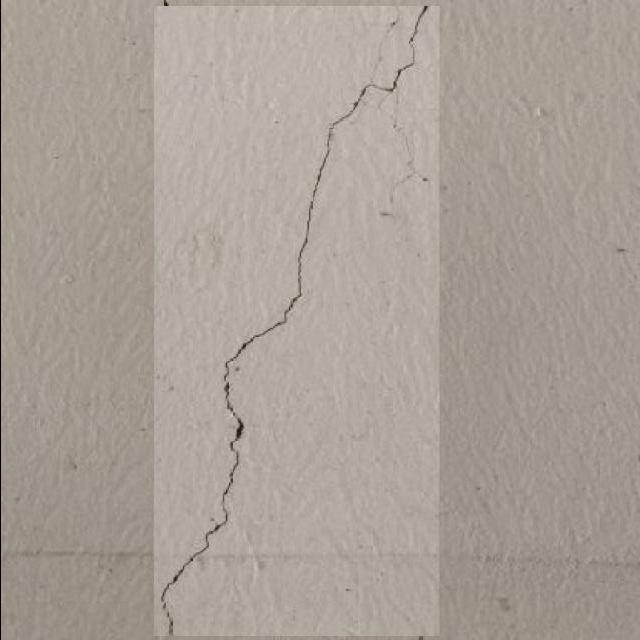crack: (157, 4, 433, 634), (153, 15, 199, 634), (167, 354, 249, 640), (20, 548, 628, 567), (367, 7, 427, 111), (221, 336, 257, 456), (154, 2, 434, 16), (389, 106, 425, 196), (8, 547, 147, 559), (411, 4, 431, 39)
